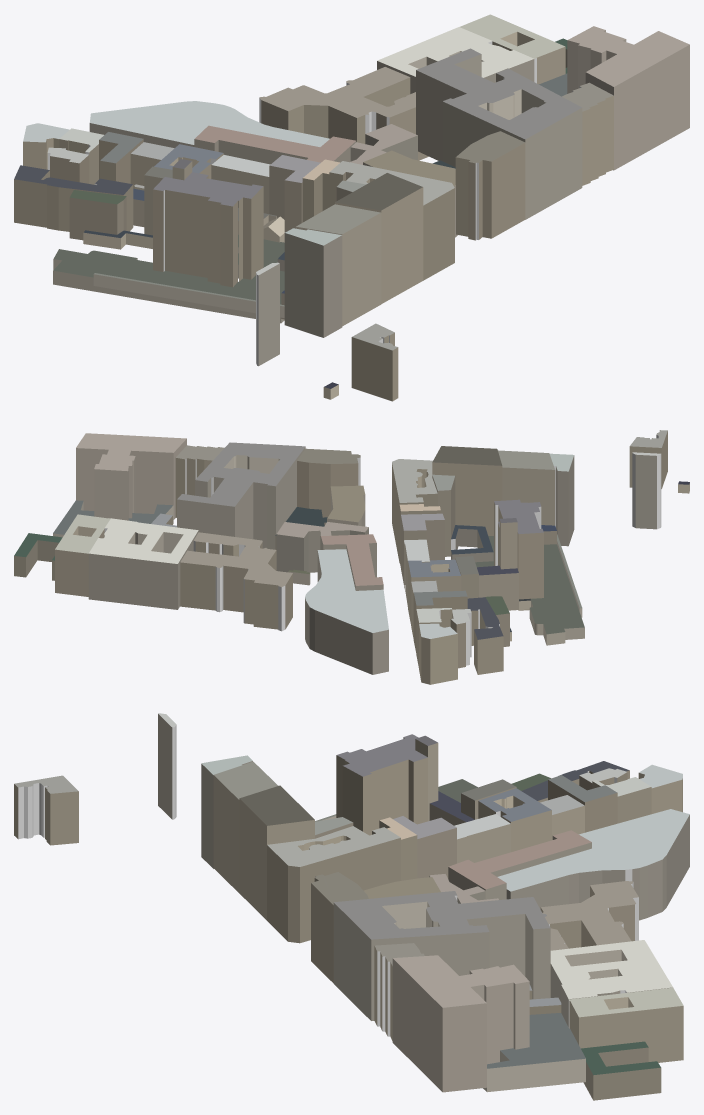
The picture shows the model from 3 angles, top to bottom: view 1: azimuth 30°, elevation 25°; view 2: azimuth 150°, elevation 25°; view 3: azimuth 270°, elevation 25°; orthographic projection. The views are drawn at different scales.
Visible parts, largest first — view 1: tuile; view 2: tuile; view 3: tuile.
Part boxes in pixels (x1=…): tuile: x1=14, y1=14, x2=689, y2=401; tuile: x1=14, y1=430, x2=689, y2=684; tuile: x1=14, y1=713, x2=689, y2=1100.
Size of the model in its own units: 294 by 47.61 by 271.
